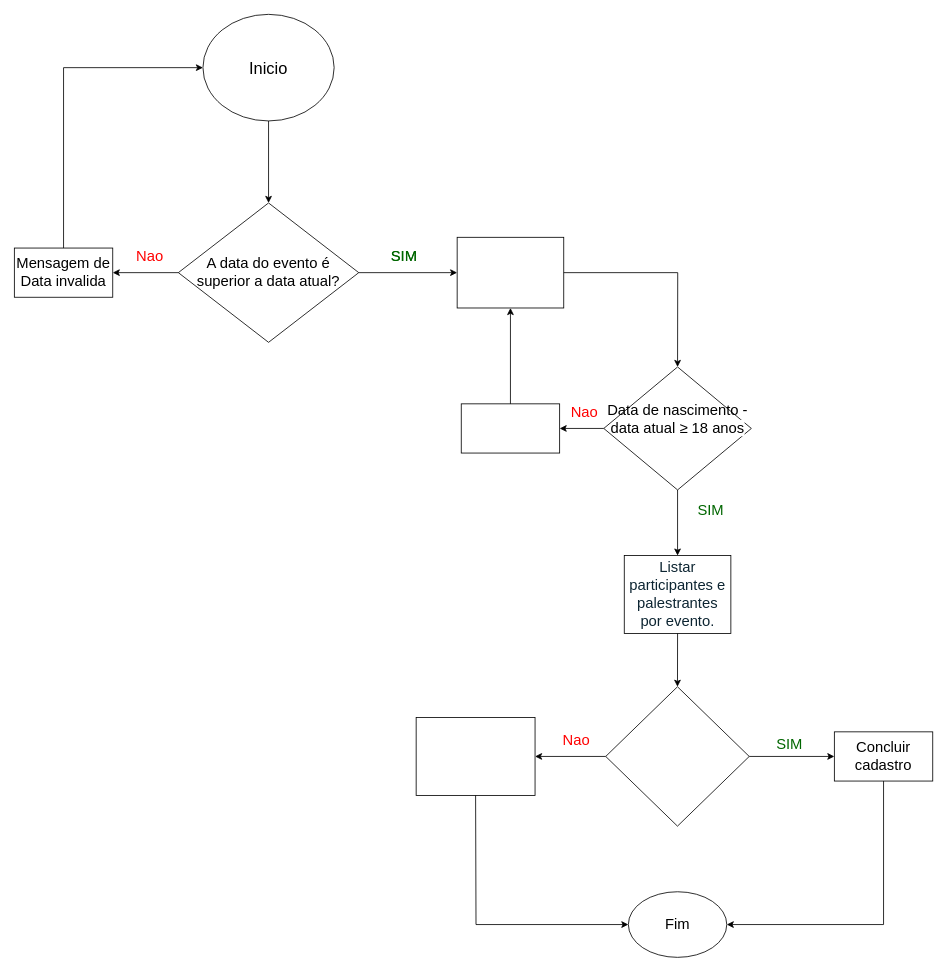
The diagram is 947 pixels wide and 972 high, and some of its shapes have lost their labels. The shapes that lost their labels are listed below. From the top down, each one's centre as x and y in pixels, then its label:
point (510, 272): Digitar data de nascimento
point (510, 428): Mensagem de idade insuficiente
point (475, 756): Mensagem de limite de participantes ultrapassado
point (677, 756): A quantidade de participantes é inferior a 100?
